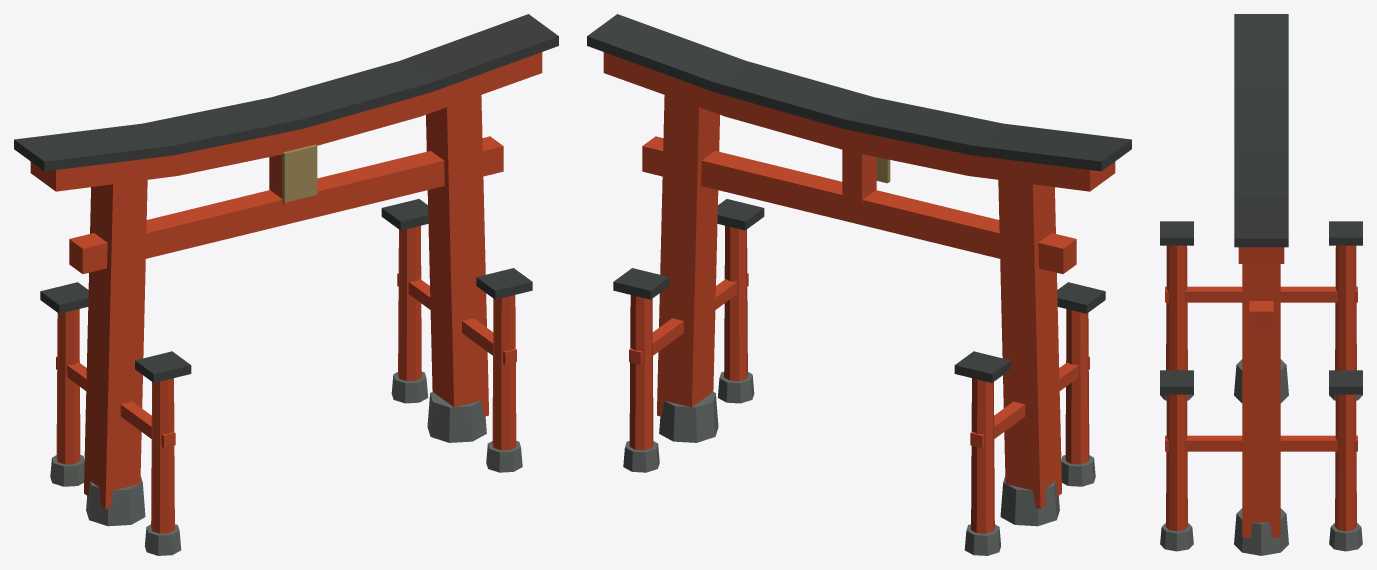
File: torii-small-lod.glb
The picture shows the model from 3 angles, left to right: view 1: azimuth 30°, elevation 25°; view 2: azimuth 150°, elevation 25°; view 3: azimuth 270°, elevation 25°; orthographic projection. The views are drawn at different scales.
Visible parts, largest first — view 1: torii-small; view 2: torii-small; view 3: torii-small.
Boxes of the visible parts, box(x1,y1,x2,y2) form: torii-small: box(14, 14, 558, 555); torii-small: box(587, 14, 1131, 555); torii-small: box(1160, 14, 1362, 555).
Bounding box in the file's own units: 4.95 × 3.53 × 1.89.
